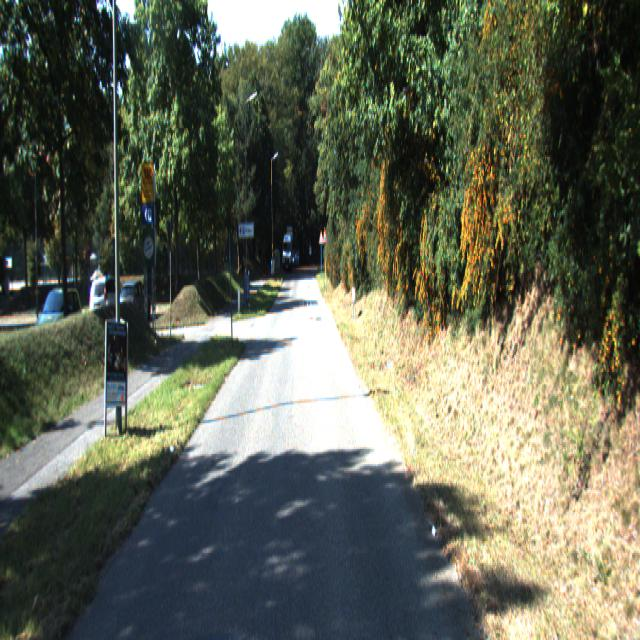Car: (31, 284, 86, 358), (89, 274, 126, 327), (118, 280, 152, 329)
